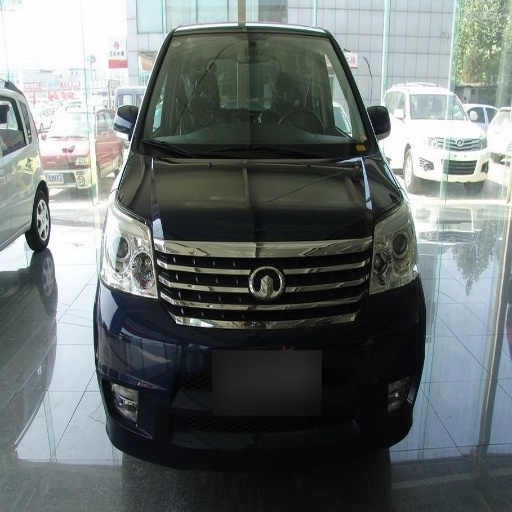front_bumper: (97, 253, 417, 450)
front_right_light: (102, 203, 154, 296)
hood: (117, 142, 404, 297)
